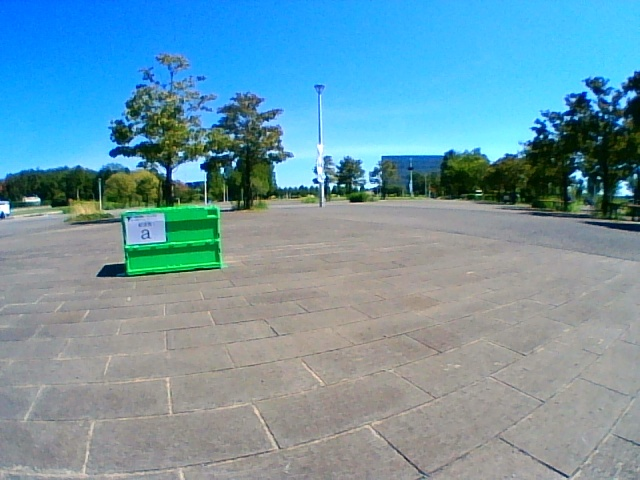green_box: (122, 207, 221, 276)
tag_a: (126, 216, 164, 242)
